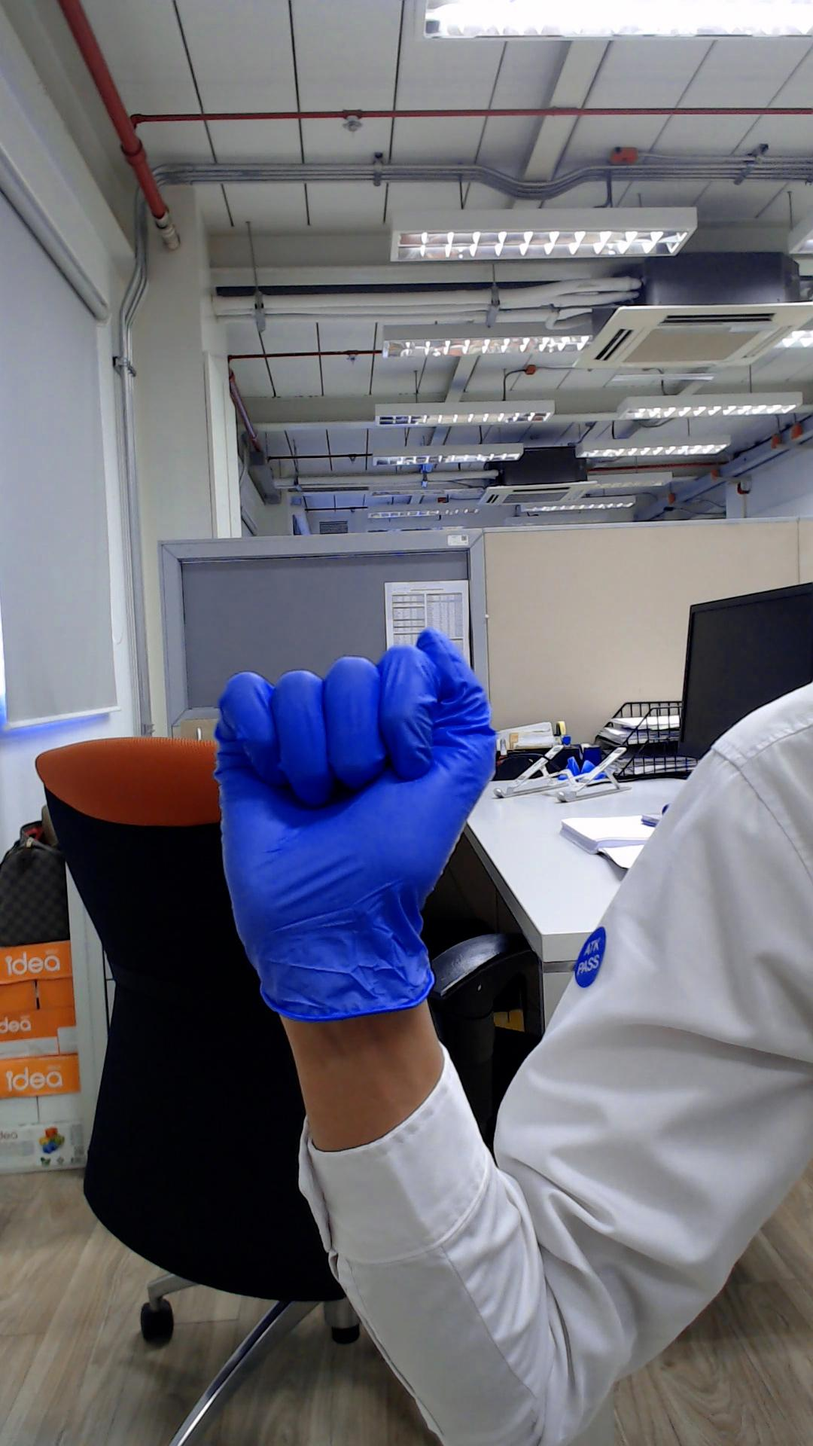gloves: (202, 598, 510, 896)
